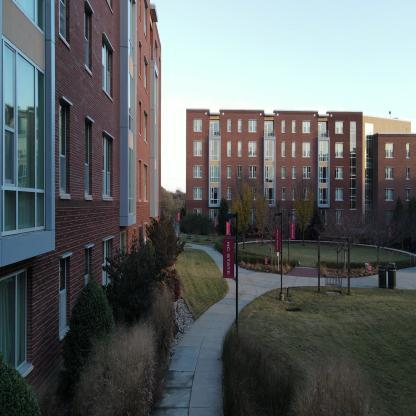Wolf Ridge: (0, 1, 168, 406), (182, 95, 415, 286)
